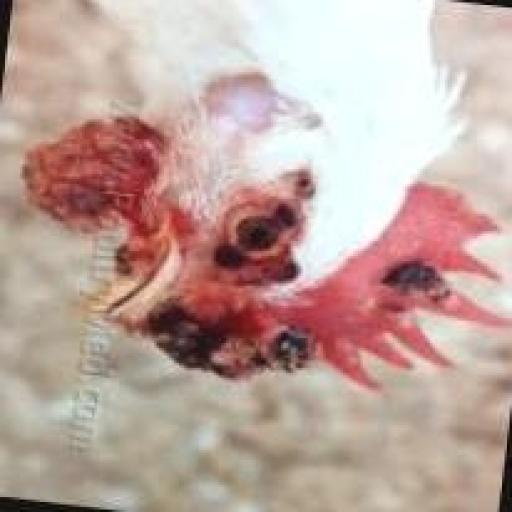disease: (141, 278, 328, 392), (209, 152, 322, 282), (375, 236, 458, 318), (94, 222, 156, 284)
